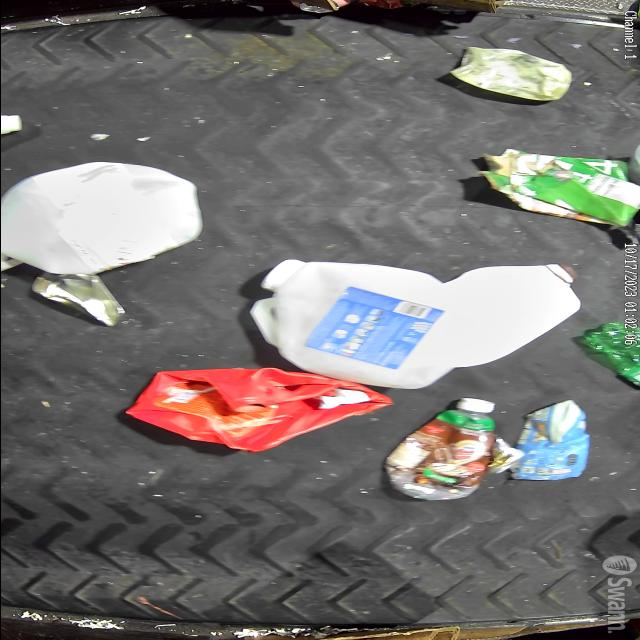can: (33, 273, 123, 327)
milk_jug: (249, 260, 451, 385), (0, 162, 204, 277), (450, 264, 580, 368)
non_white_jug: (124, 368, 396, 452)
